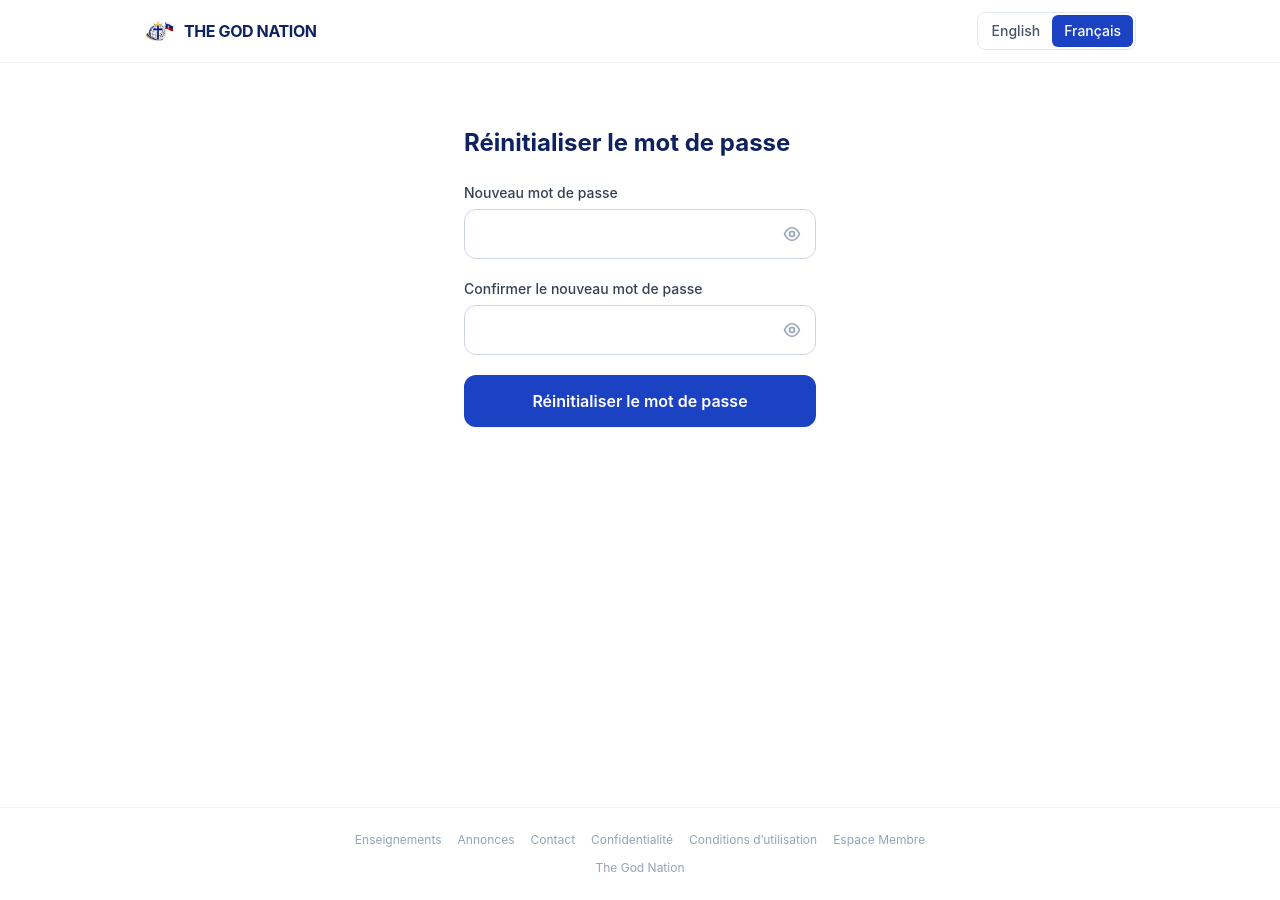
Password link pages › the reset page explains a bad link in the reader's language
In the password field labelled "Nouveau mot de passe": (640,234) left=464, top=209, right=816, bottom=259, type "NewPass123"
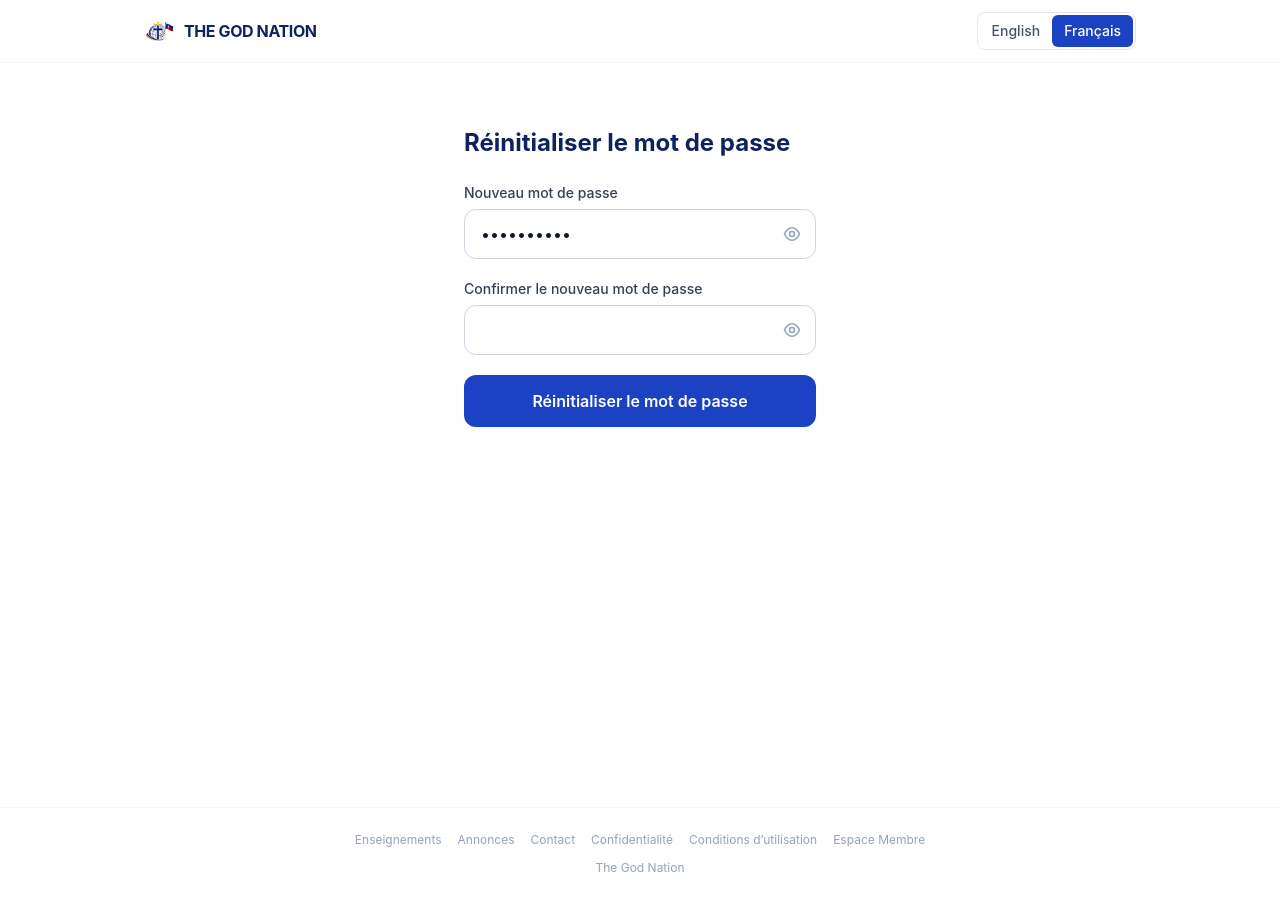
In the password field labelled "Confirmer le nouveau mot de passe": (640,330) left=464, top=305, right=816, bottom=355, type "NewPass123"
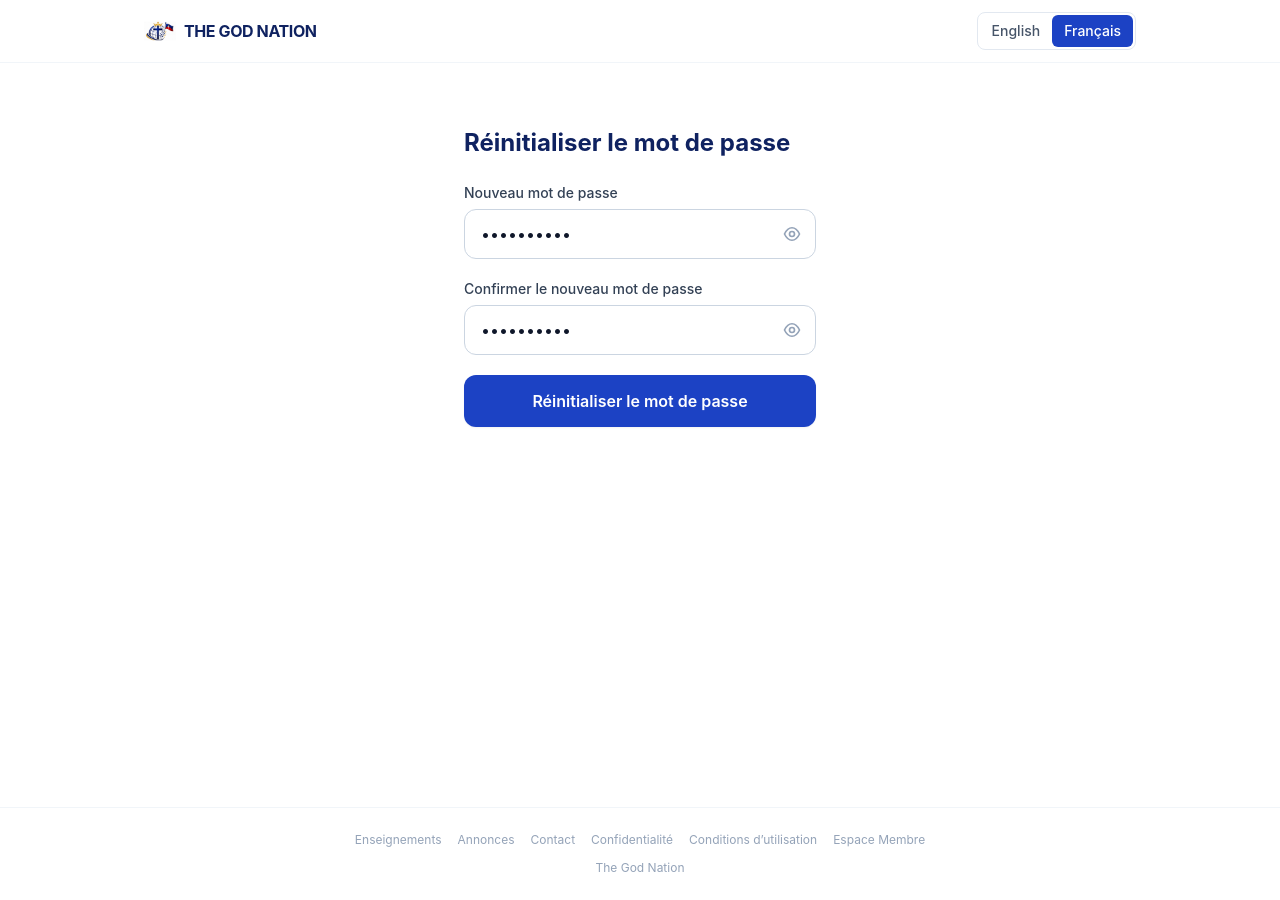
Click the button "Réinitialiser le mot de passe": (640,401) left=464, top=375, right=816, bottom=427
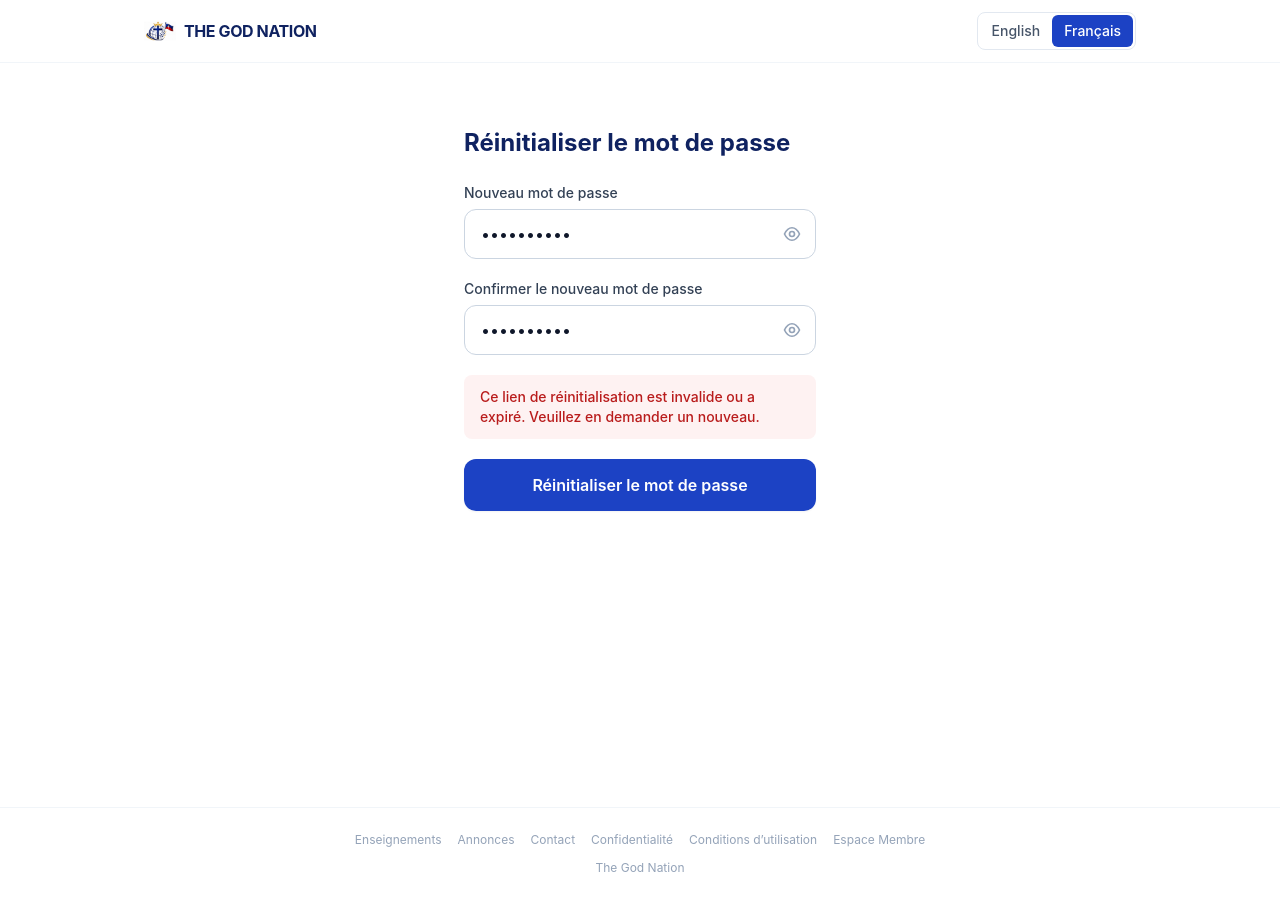
Expected: the text "invalide ou a expiré" is shown, left=480, top=388, right=760, bottom=425
